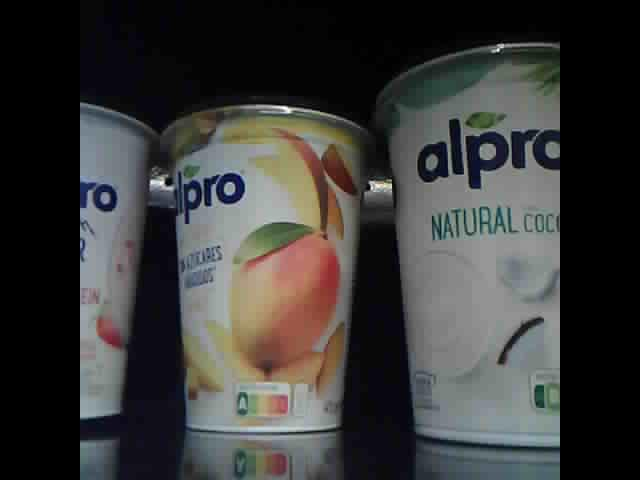alpro: (376, 43, 560, 455), (161, 95, 374, 437), (81, 97, 160, 423)
